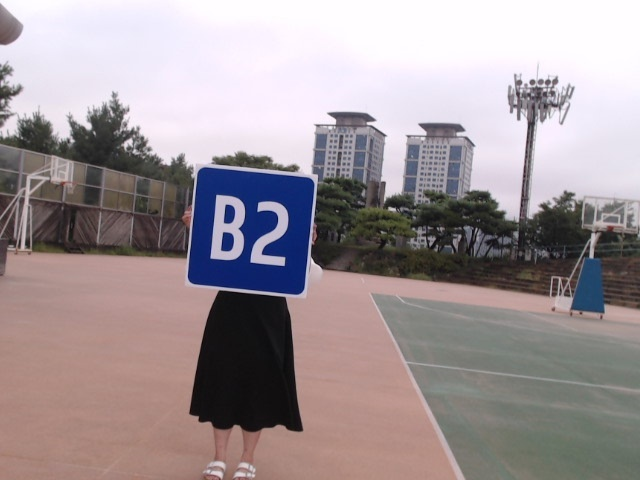delivery_b2: (186, 167, 317, 296)
